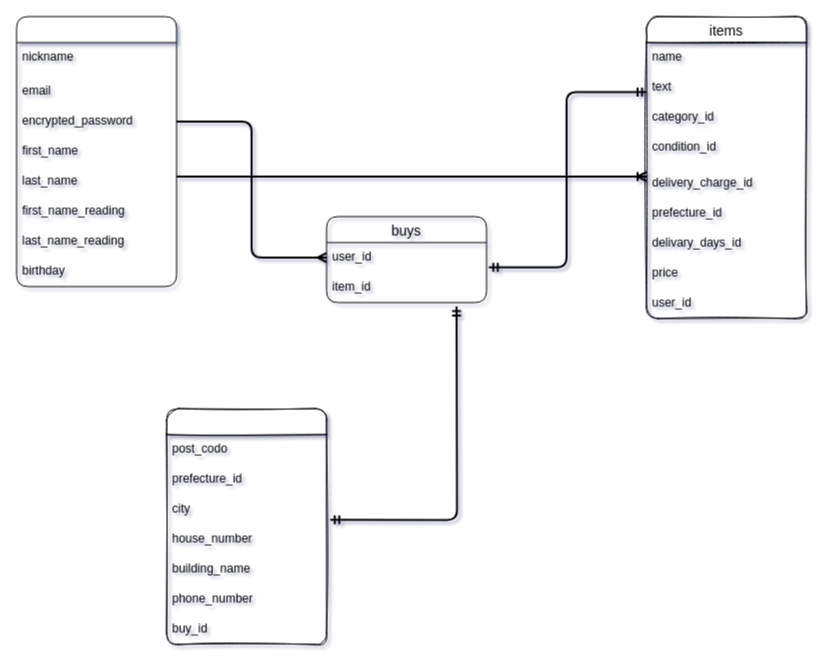
This 824x662 diagram has some shape labels left out. The box of each missing label's shape, as (x1, y1, x2, y2) in pixels:
shipping_addresses: (166, 408, 326, 644)
users: (16, 16, 176, 286)
